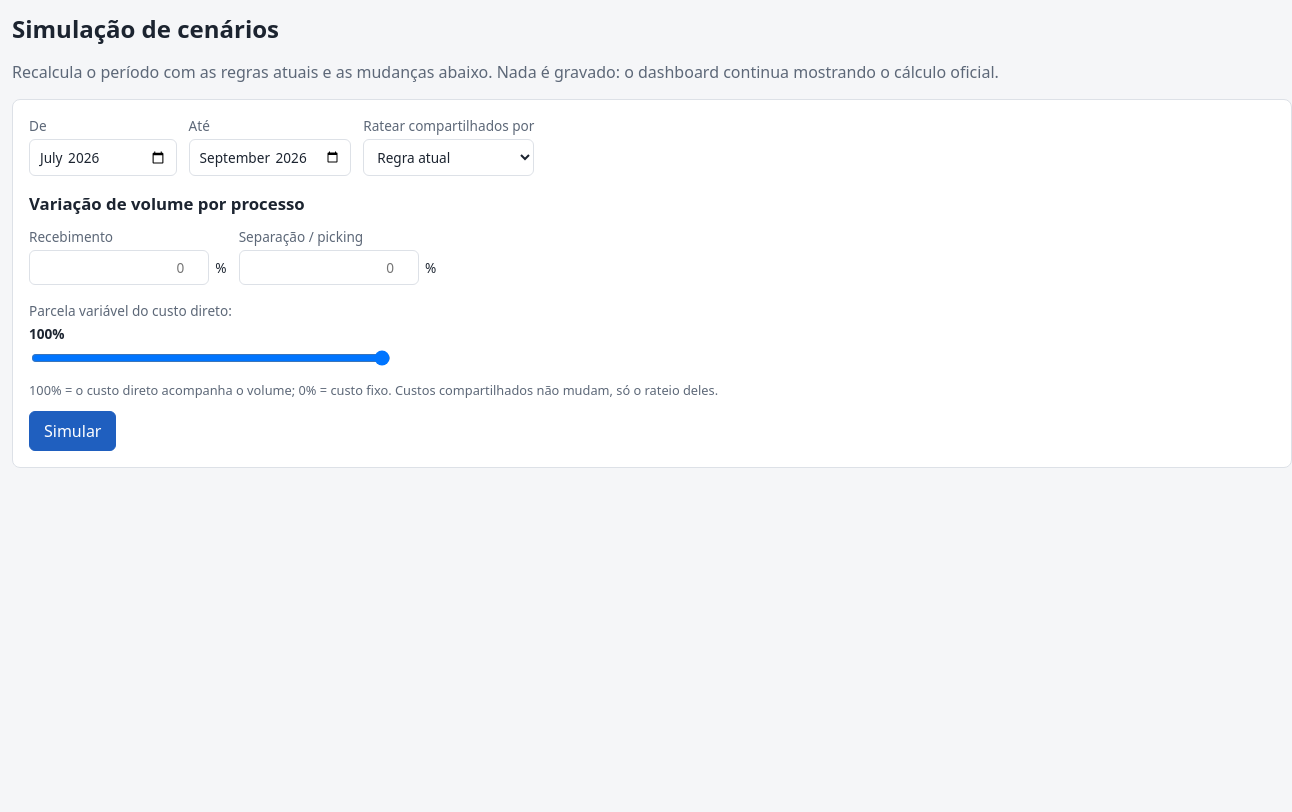
Test case: envia o cenário e mostra o resultado por processo
In the number field named "Volume de Recebimento (%)": (119, 268) top-left (29, 250), bottom-right (209, 285), type "20"
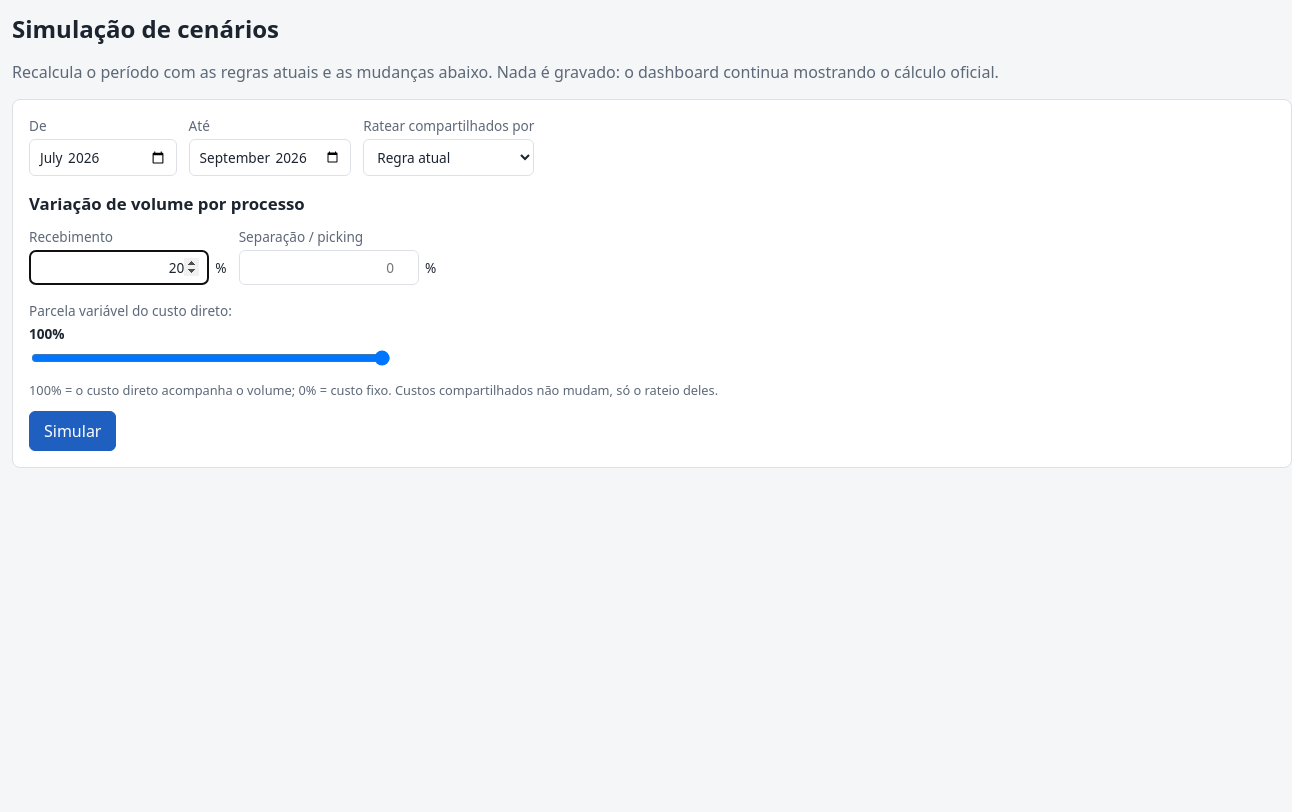
Select "Pedido separado" in the dropdown labelled "Ratear compartilhados por": (449, 158) top-left (363, 139), bottom-right (534, 176)
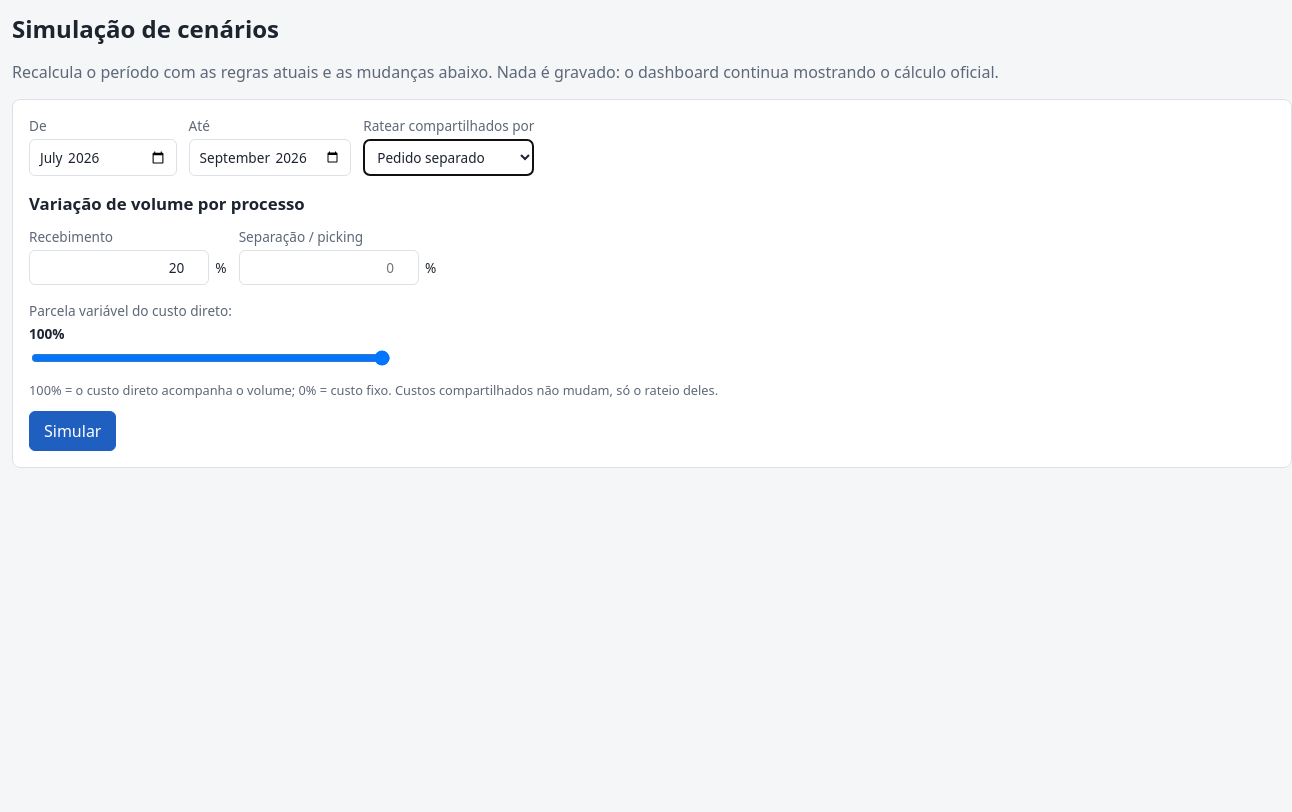
Click the button "Simular": (73, 431) top-left (29, 411), bottom-right (116, 451)
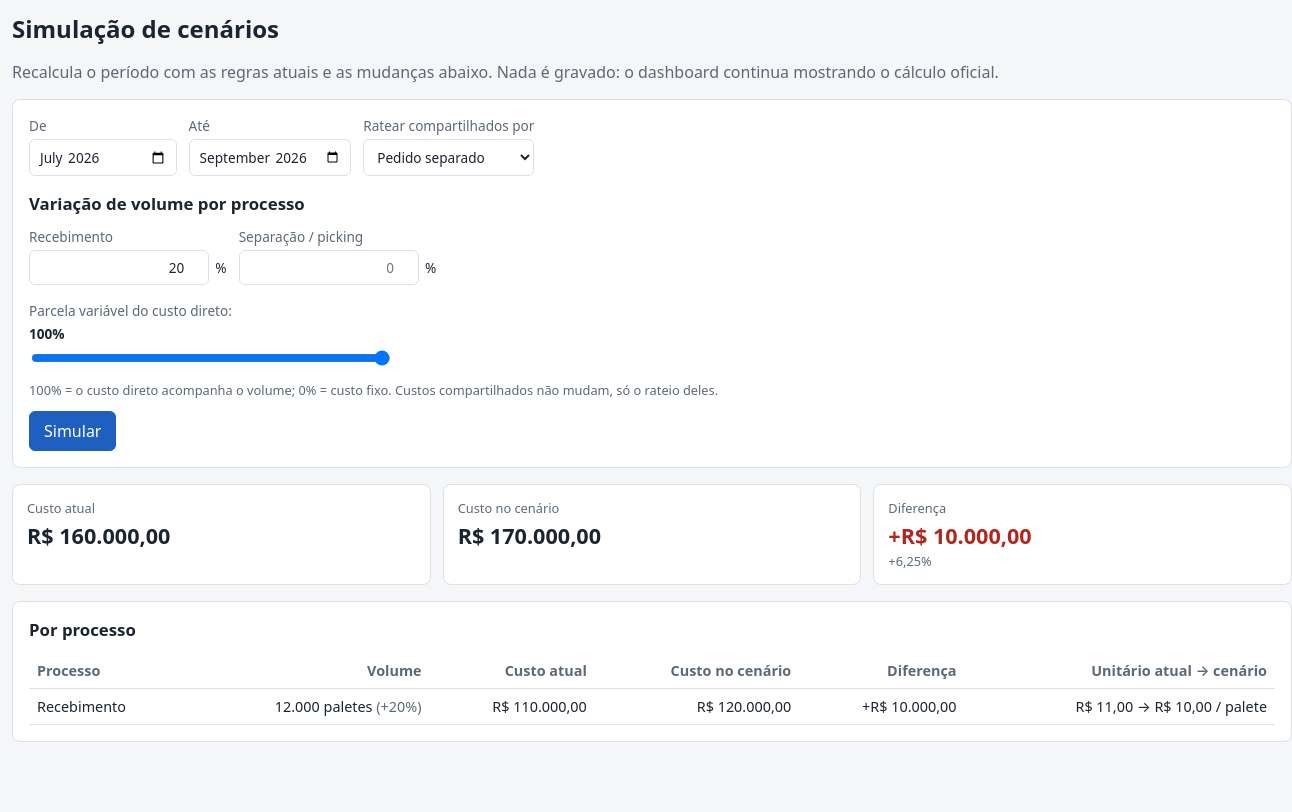
Check: the text "+R$ 10.000,00" is shown, box top-left (888, 521), bottom-right (1032, 550)
Check: the text "+6,25%" is shown, box top-left (888, 552), bottom-right (932, 570)
Check: the text "(+20%)" is shown, box top-left (372, 697), bottom-right (422, 716)
